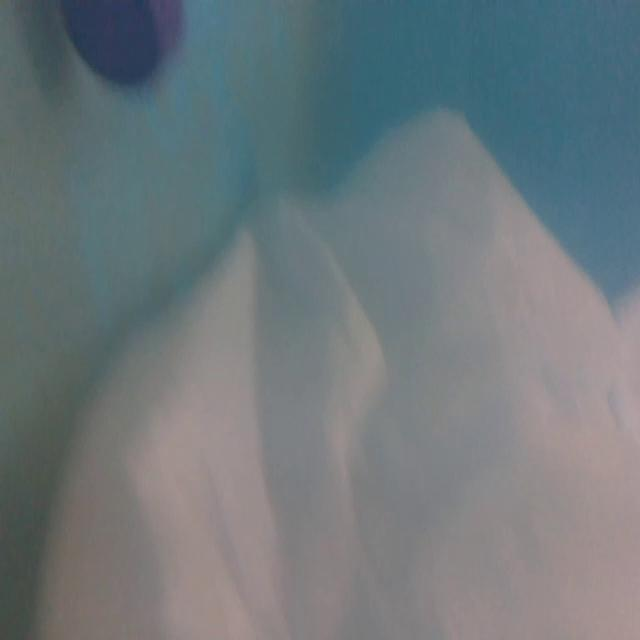plastic bags: (35, 113, 640, 640)
